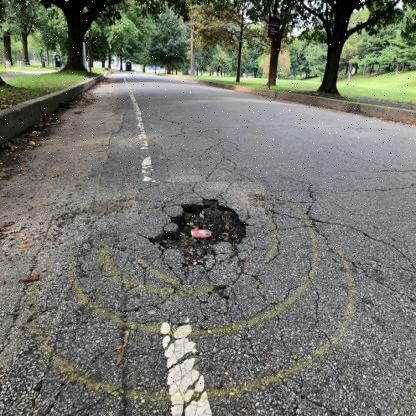pothole: (138, 182, 266, 286)
